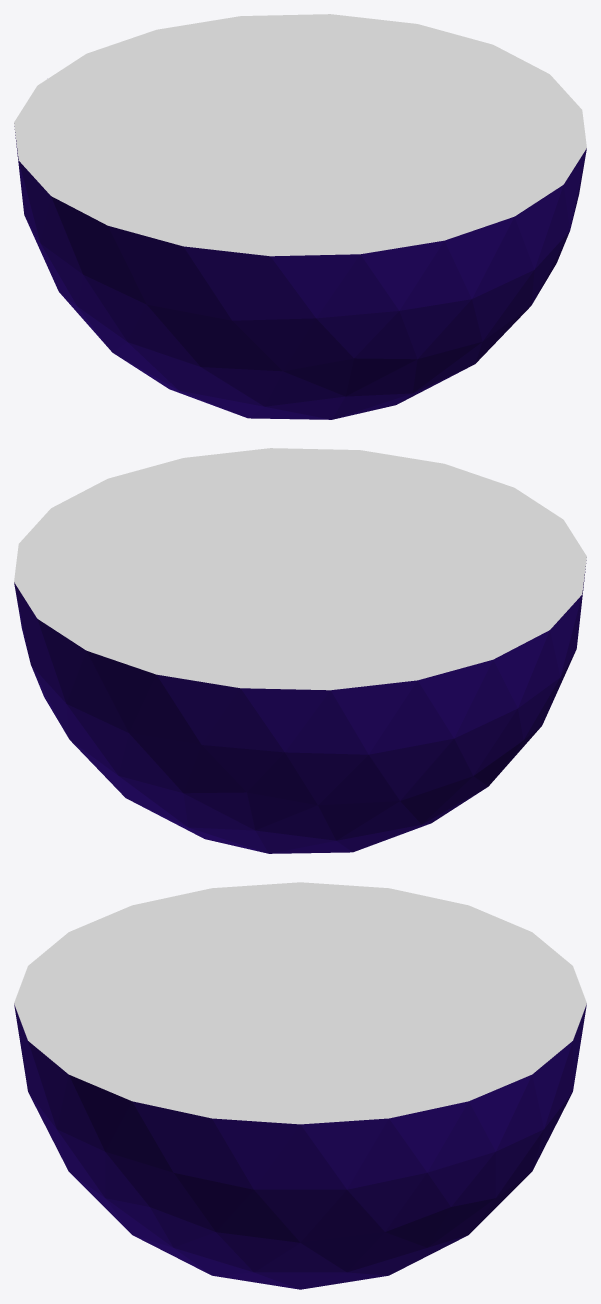
The model's file is ground.fbx.
The picture shows the model from 3 angles, top to bottom: view 1: azimuth 30°, elevation 25°; view 2: azimuth 150°, elevation 25°; view 3: azimuth 270°, elevation 25°; orthographic projection.
Parts seen in each view (by area): view 1: Icosphere; view 2: Icosphere; view 3: Icosphere.
Part boxes in pixels (bbox=[...]): Icosphere: bbox=[14, 14, 586, 419]; Icosphere: bbox=[14, 448, 586, 853]; Icosphere: bbox=[14, 882, 586, 1289].
Bounding box in the file's own units: 200 × 100 × 200.
